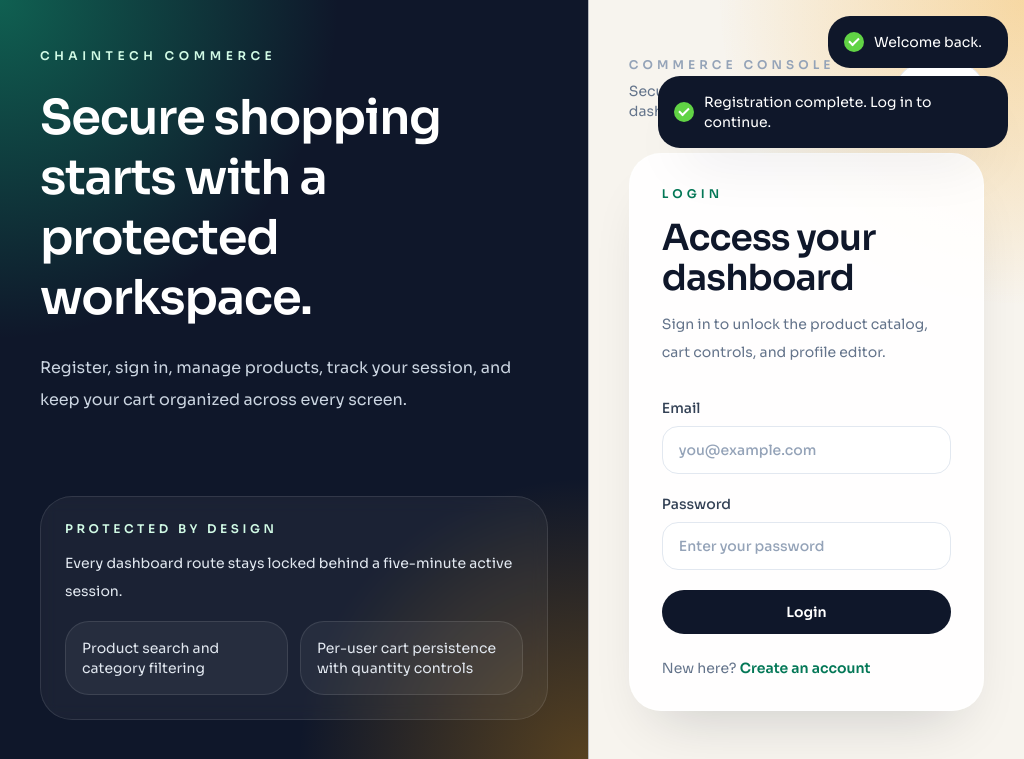
Scenario: app integration flows › returns users to their originally requested protected route after login
The image size is (1024, 759).
Check: the heading "Access your dashboard" is shown, box [662,215,875,300]
Type "alex@example.com" into the field labelled "Email".
click(806, 450); type("alex@example.com")  # box [662,426,951,474]
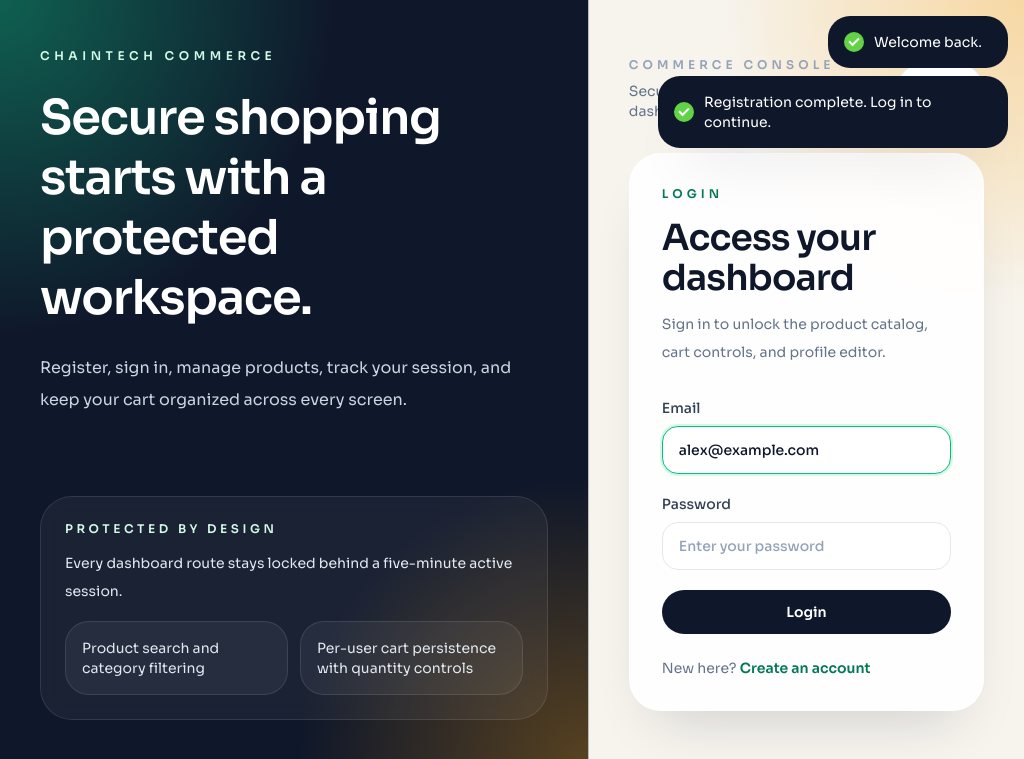
Type "secret123" into the password field labelled "Password".
click(806, 546); type("secret123")  # box [662,522,951,570]
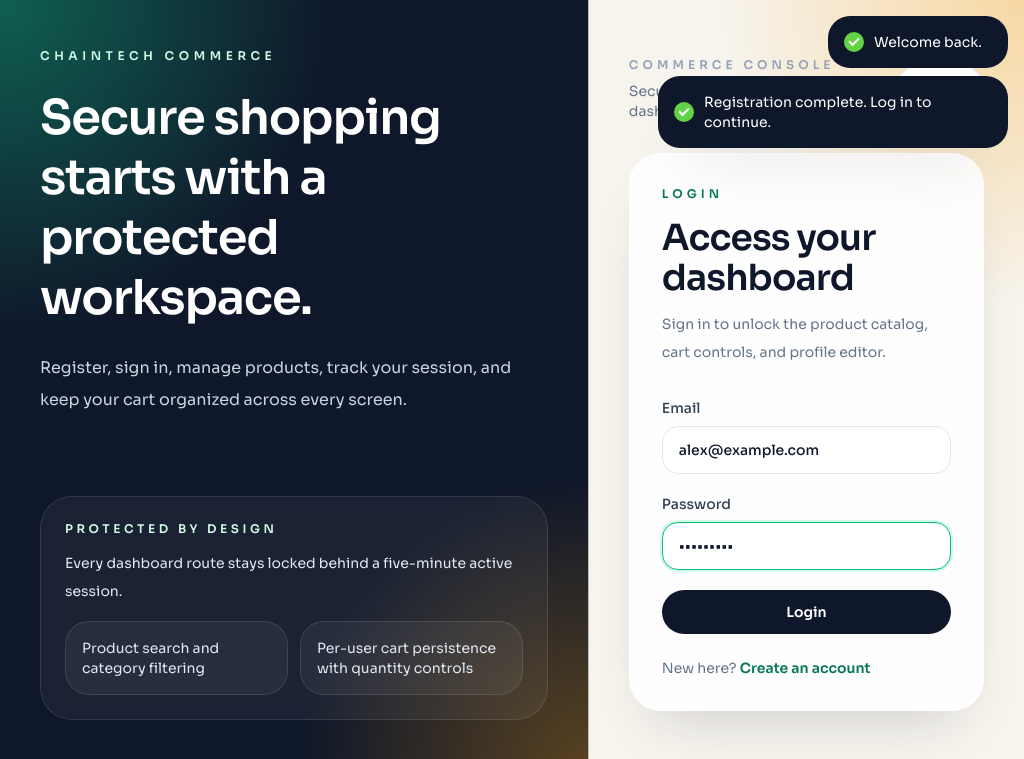
Click the button "Login".
click(806, 612)  # box [662,590,951,634]
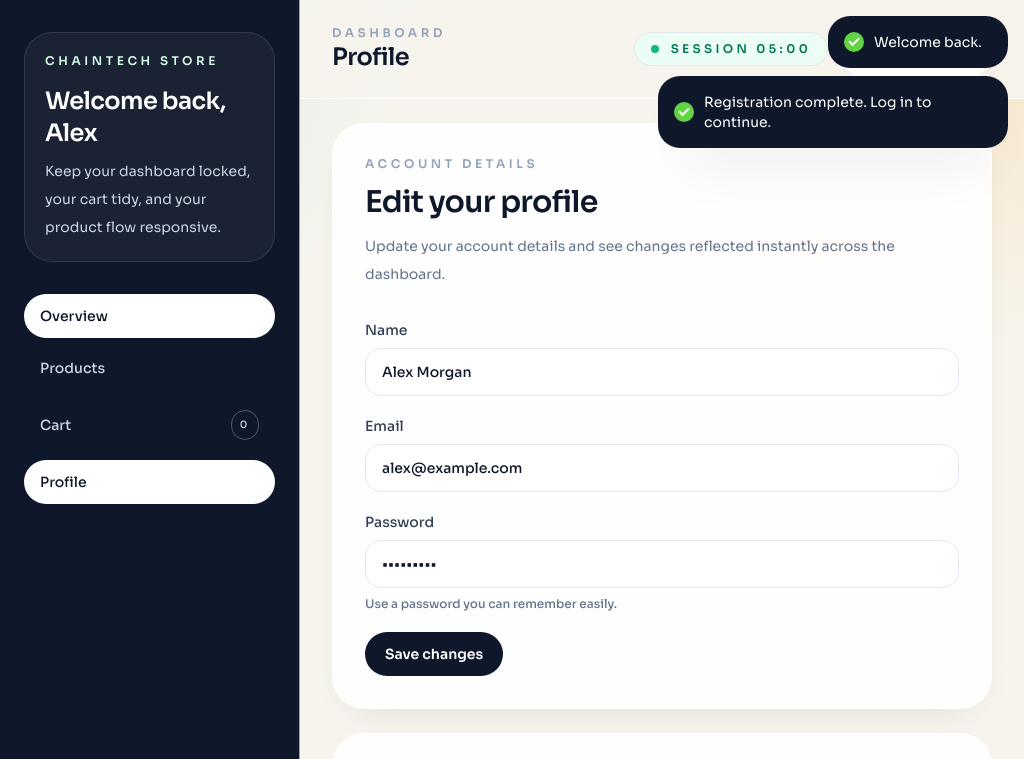
Check: the heading "Edit your profile" is shown, box [365,183,598,221]
